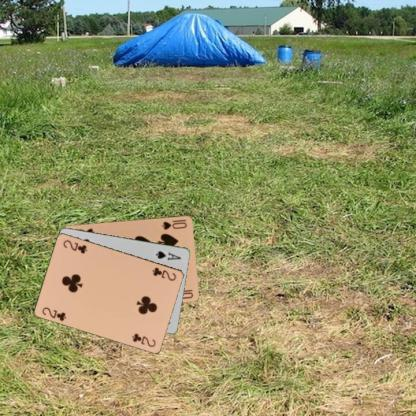10s: (159, 216, 188, 231)
2c: (40, 304, 67, 323), (150, 265, 177, 282)
As: (154, 249, 183, 261)
